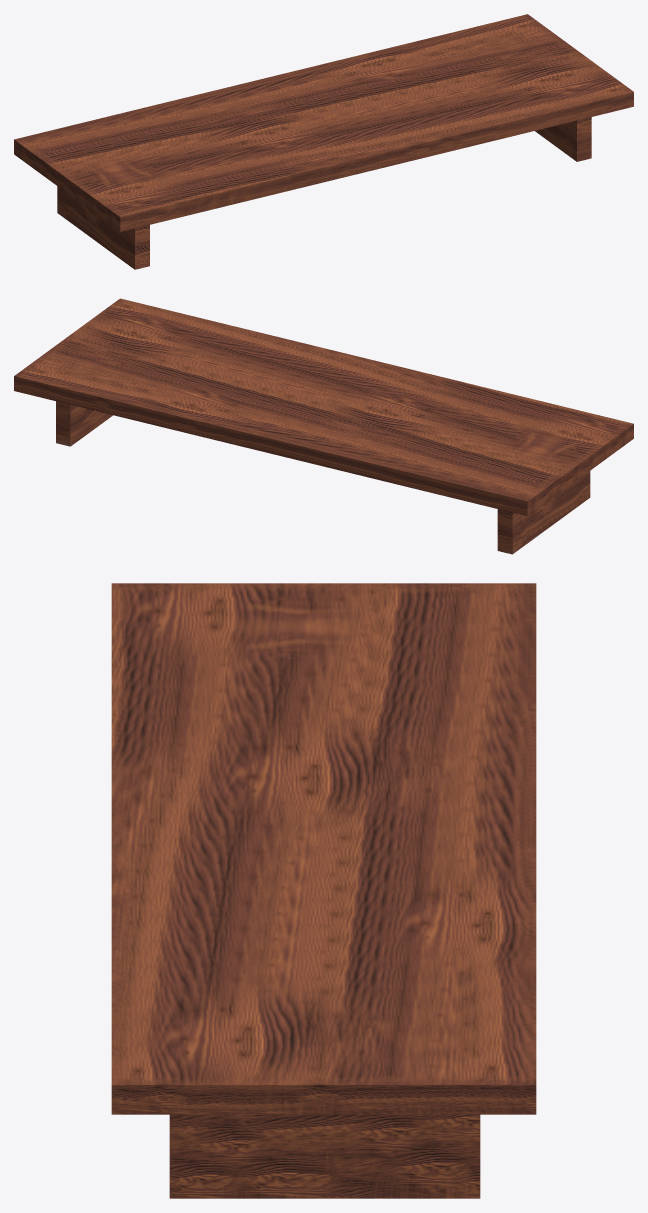
The model's file is tatamiTable.fbx.
The picture shows the model from 3 angles, top to bottom: view 1: azimuth 30°, elevation 25°; view 2: azimuth 150°, elevation 25°; view 3: azimuth 270°, elevation 25°; orthographic projection. The views are drawn at different scales.
Parts seen in each view (by area): view 1: pCube1; view 2: pCube1; view 3: pCube1.
Boxes of the visible parts, x1,y1,x2,y2 form: pCube1: [14, 14, 633, 269]; pCube1: [14, 298, 633, 554]; pCube1: [111, 583, 536, 1198].
Bounding box in the file's own units: 334 × 43.72 × 120.
